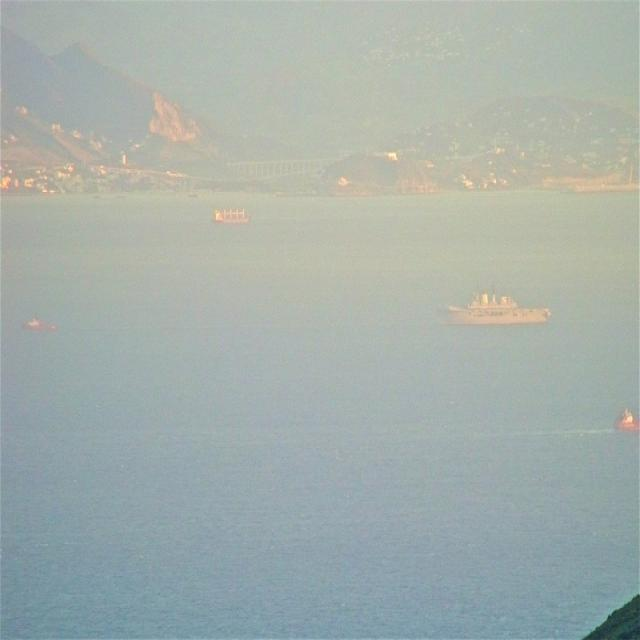Portanaves: (429, 267, 560, 338)
